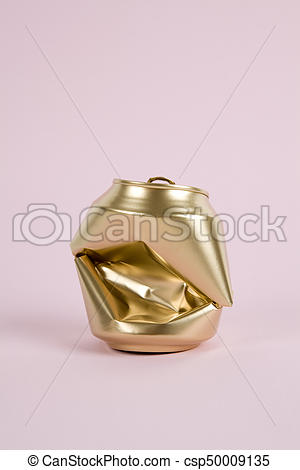can: (67, 177, 238, 357)
